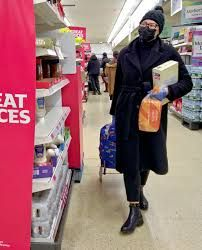with-mask: (132, 7, 175, 43)
